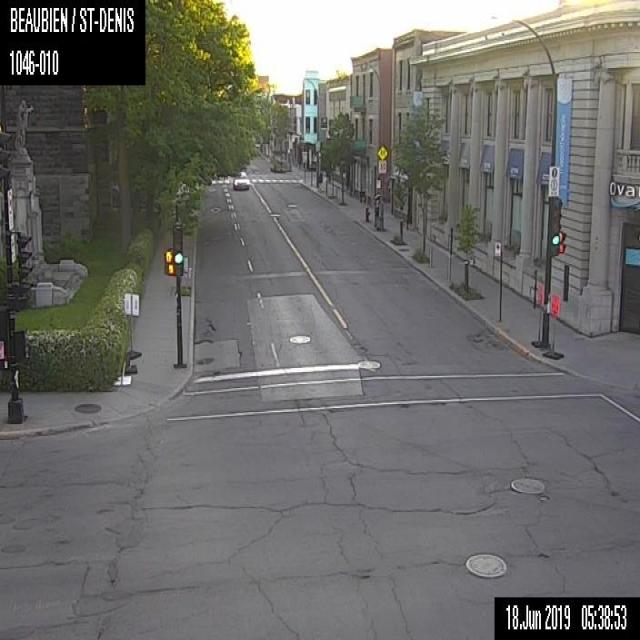construction: (542, 293, 564, 359), (530, 286, 543, 347)
vehicle: (231, 169, 249, 191)
